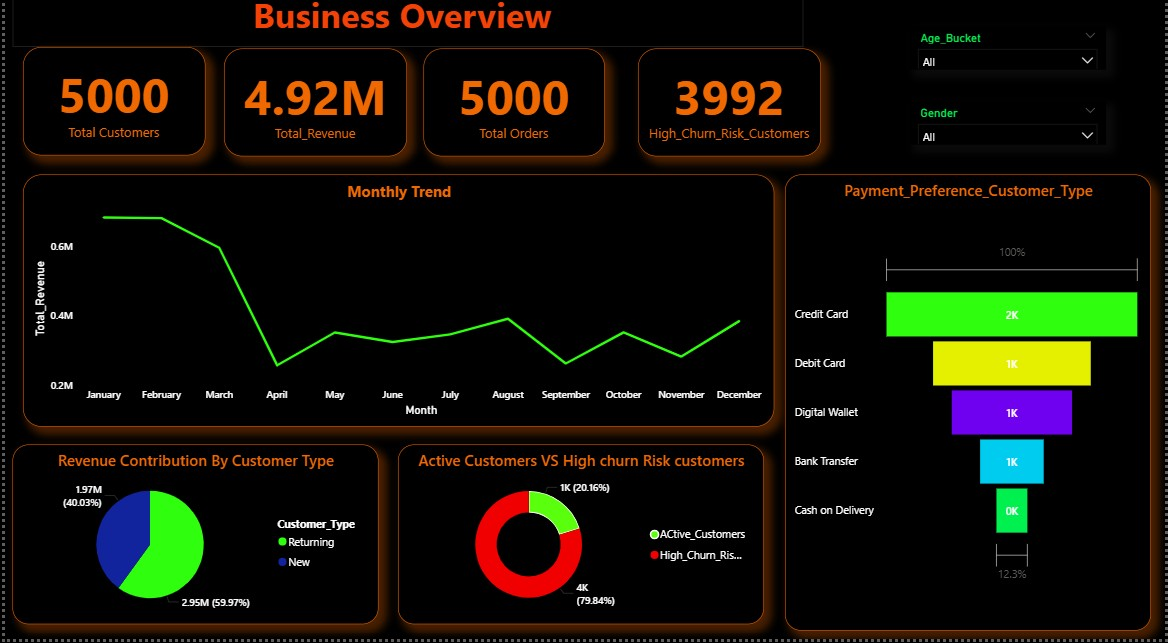

What the dashboard file says about the page in this screenshot:
{"tool":"powerbi","page":{"name":"Business Overview ","canvas":[1440,810],"ordinal":0},"visuals":[{"type":"textbox","box":[9.9,0,980.6,74.5],"z":0},{"type":"card","fields":{"Values":["public customers.Total Customers"]},"box":[22.1,75,226.6,134.6],"z":1},{"type":"card","fields":{"Values":["public customers.Total_Revenue"]},"box":[272.1,76.4,227.4,134.2],"z":2},{"type":"card","fields":{"Values":["public customers.Total Orders"]},"box":[519.9,76.4,225.5,134.2],"z":3},{"type":"card","fields":{"Values":["public customers.High_Churn_Risk_Customers"]},"box":[786.4,76.4,227.4,134.2],"z":4},{"type":"lineChart","title":"Monthly Trend ","fields":{"Category":["public customers.Date.Variation.Date Hierarchy.Month"],"Y":["public customers.Total_Revenue"]},"box":[22.4,232.9,933.6,313.1],"z":6},{"type":"donutChart","title":"Active Customers VS High churn Risk customers ","fields":{"Y":["public customers.ACtive_Customers","public customers.High_Churn_Risk_Customers"]},"box":[488.2,568.4,454.7,223.6],"z":7},{"type":"pieChart","title":"Revenue Contribution By Customer Type","fields":{"Category":["public customers.Customer_Type"],"Y":["public customers.Total_Revenue"]},"box":[9.3,568.4,454.7,223.6],"z":8},{"type":"funnel","title":"Payment_Preference_Customer_Type","fields":{"Category":["public customers.Payment_Method"],"Y":["public customers.Total Customers"]},"box":[969,232.9,454.7,566.5],"z":9},{"type":"slicer","fields":{"Values":["public customers.Gender"]},"box":[1123.7,141.6,244.1,54],"z":10},{"type":"slicer","fields":{"Values":["public customers.Age_Bucket"]},"box":[1123.7,48.5,244.1,54],"z":11}]}

Visuals, with their boxes in screenshot pixels (x1, y1, x2, y2), scaled from the page's 1440x810 canvas onto the 1168x643 screenshot:
textbox: [left=8, top=0, right=803, bottom=59]
card - public customers.Total Customers: [left=18, top=60, right=202, bottom=166]
card - public customers.Total_Revenue: [left=221, top=61, right=405, bottom=167]
card - public customers.Total Orders: [left=422, top=61, right=605, bottom=167]
card - public customers.High_Churn_Risk_Customers: [left=638, top=61, right=822, bottom=167]
"Monthly Trend " lineChart: [left=18, top=185, right=775, bottom=433]
"Active Customers VS High churn Risk customers " donutChart: [left=396, top=451, right=765, bottom=629]
"Revenue Contribution By Customer Type" pieChart: [left=8, top=451, right=376, bottom=629]
"Payment_Preference_Customer_Type" funnel: [left=786, top=185, right=1155, bottom=635]
slicer - public customers.Gender: [left=911, top=112, right=1109, bottom=155]
slicer - public customers.Age_Bucket: [left=911, top=39, right=1109, bottom=81]
